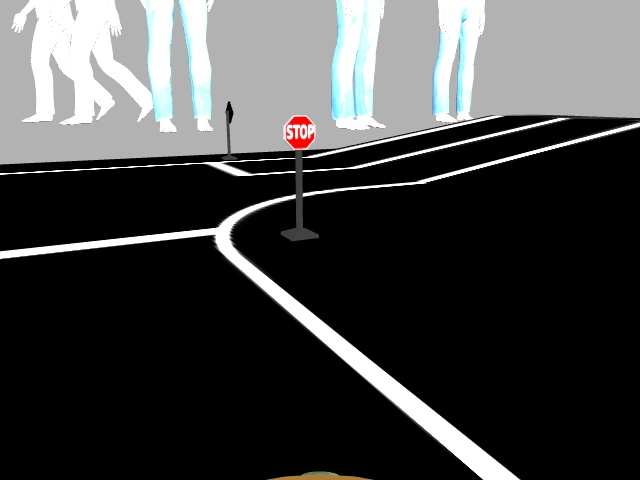Stop: (284, 114, 315, 146)
